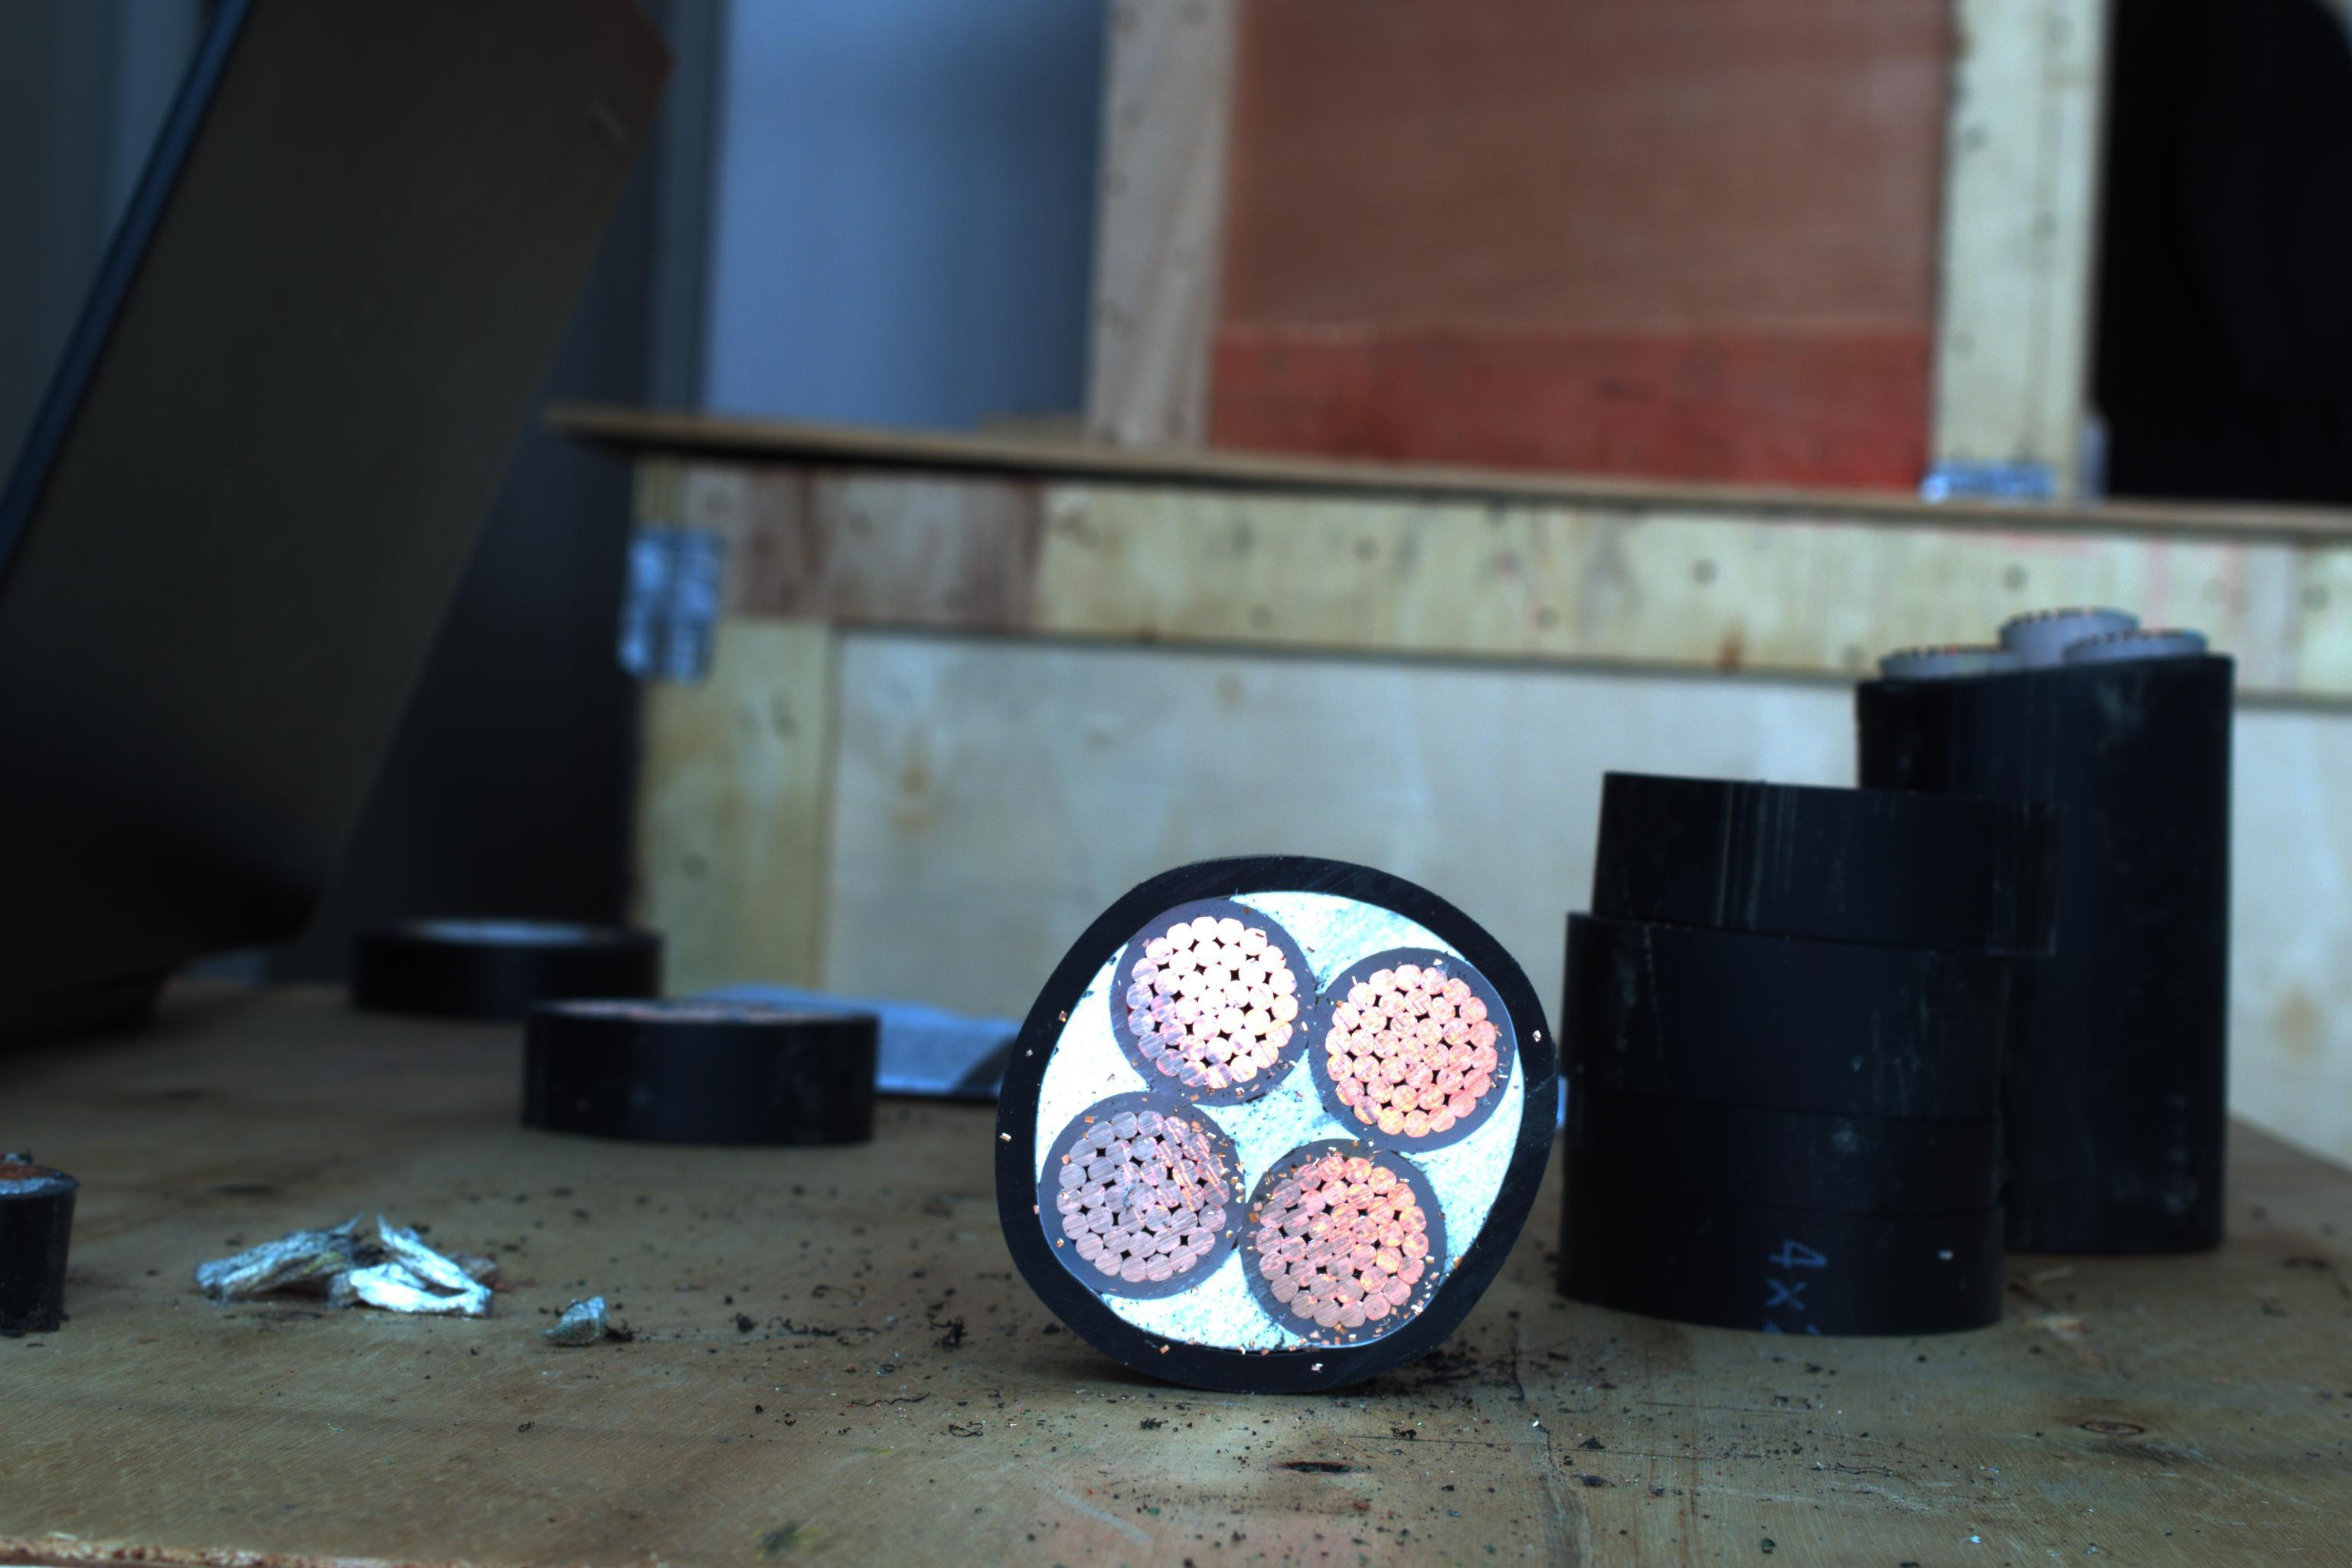YJV_0.6_1kV_4x240: (982, 868, 1563, 1409)
